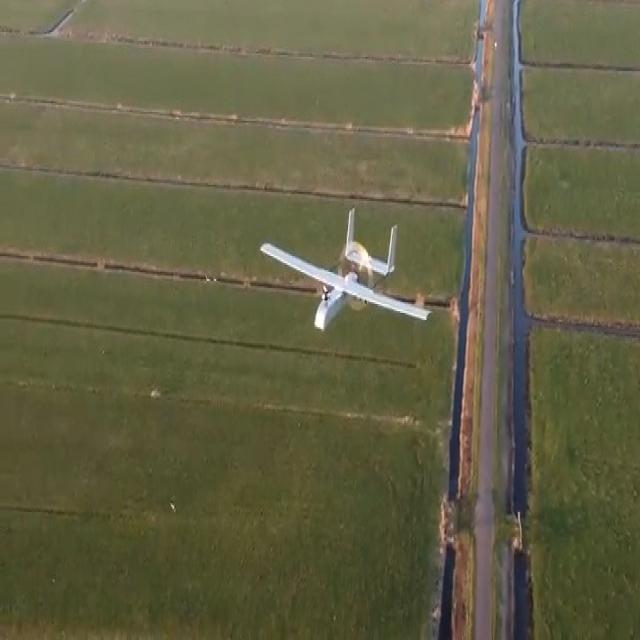iha: (256, 195, 434, 344)
